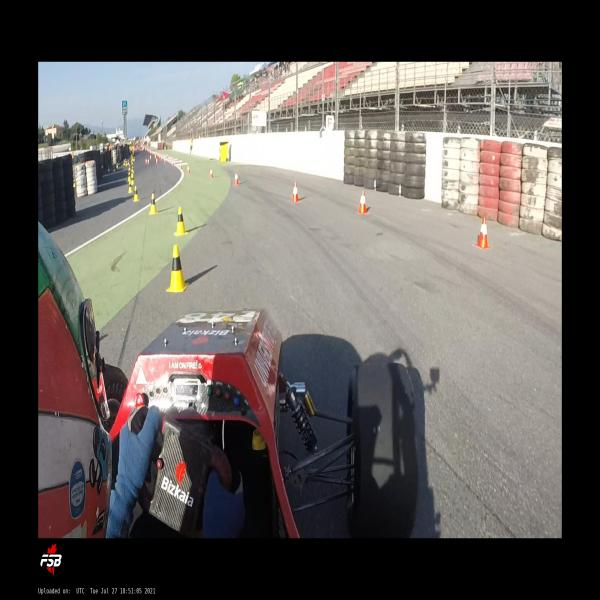orange_cone: (475, 217, 490, 249), (357, 190, 368, 214), (290, 182, 300, 203), (233, 170, 240, 186), (208, 167, 214, 179), (186, 166, 191, 174), (180, 161, 184, 169)
yellow_cone: (166, 245, 190, 292), (173, 206, 189, 236), (149, 193, 159, 214), (133, 186, 140, 202), (128, 180, 134, 193), (130, 176, 134, 188), (128, 172, 132, 182)
